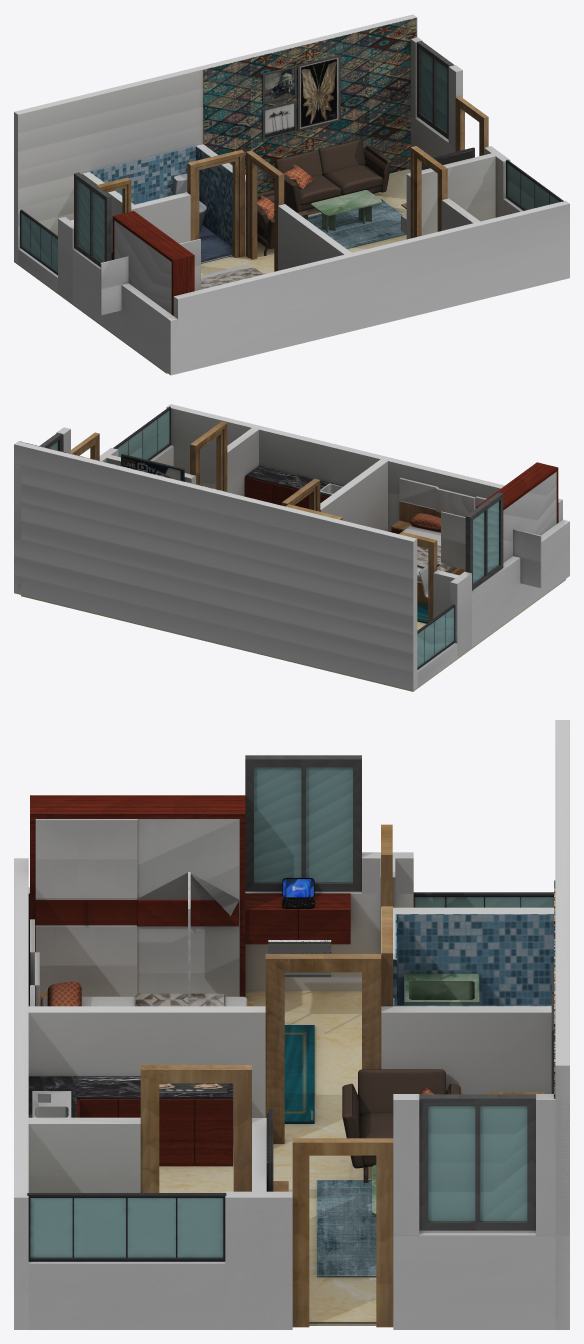
Rendered from Cutfloor Plan.fbx.
The picture shows the model from 3 angles, top to bottom: view 1: azimuth 30°, elevation 25°; view 2: azimuth 150°, elevation 25°; view 3: azimuth 270°, elevation 25°; orthographic projection. The views are drawn at different scales.
Parts seen in each view (by area): view 1: Object010, Object006, Object003, Object009, Object005, Object004, Object012, Object008, Object011, Object002, Object001, Object007; view 2: Object002, Object010, Object004, Object009, Object011, Object008, Object007, Object005, Object012, Object001; view 3: Object009, Object002, Object008, Object011, Object004, Object005, Object003, Object001, Object012, Object010, Object007, Object006.
Boxes of the visible parts, bbox=[...] form: Object010: bbox=[71, 200, 569, 373]; Object006: bbox=[203, 18, 416, 193]; Object003: bbox=[18, 17, 455, 252]; Object009: bbox=[246, 146, 563, 271]; Object005: bbox=[90, 96, 488, 373]; Object004: bbox=[14, 146, 510, 375]; Object012: bbox=[257, 139, 474, 248]; Object008: bbox=[112, 41, 453, 315]; Object011: bbox=[20, 164, 314, 303]; Object002: bbox=[14, 14, 416, 315]; Object001: bbox=[257, 37, 472, 255]; Object007: bbox=[201, 100, 296, 289]; Object002: bbox=[14, 441, 541, 690]; Object010: bbox=[166, 404, 562, 618]; Object004: bbox=[21, 447, 569, 691]; Object009: bbox=[106, 406, 387, 531]; Object011: bbox=[320, 483, 503, 669]; Object008: bbox=[40, 432, 558, 562]; Object007: bbox=[402, 513, 465, 623]; Object005: bbox=[71, 432, 437, 622]; Object012: bbox=[121, 454, 184, 481]; Object001: bbox=[14, 427, 70, 541]; Object009: bbox=[27, 954, 381, 1329]; Object002: bbox=[30, 720, 569, 1329]; Object008: bbox=[30, 795, 535, 1230]; Object011: bbox=[32, 755, 553, 1166]; Object004: bbox=[28, 887, 413, 1329]; Object005: bbox=[159, 824, 553, 1327]; Object003: bbox=[381, 907, 569, 1329]; Object001: bbox=[266, 898, 569, 1236]; Object012: bbox=[267, 1108, 393, 1277]; Object010: bbox=[14, 858, 395, 1329]; Object007: bbox=[39, 993, 314, 1123]; Object006: bbox=[551, 880, 555, 1098].
Size of the model in its own units: 354 by 121 by 229.
